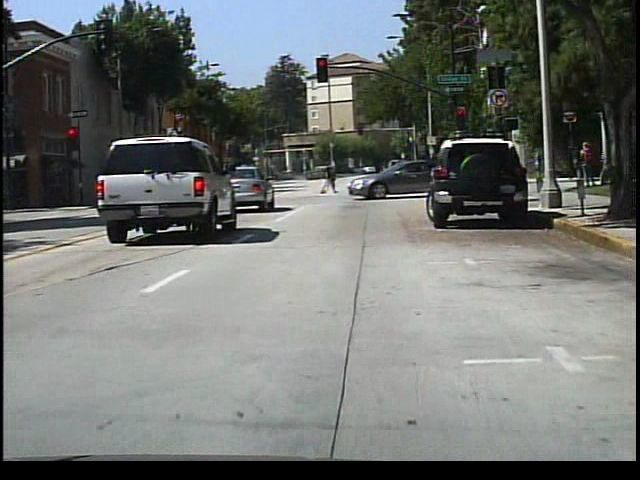person: (577, 138, 597, 193), (319, 158, 340, 198), (458, 151, 474, 186)
